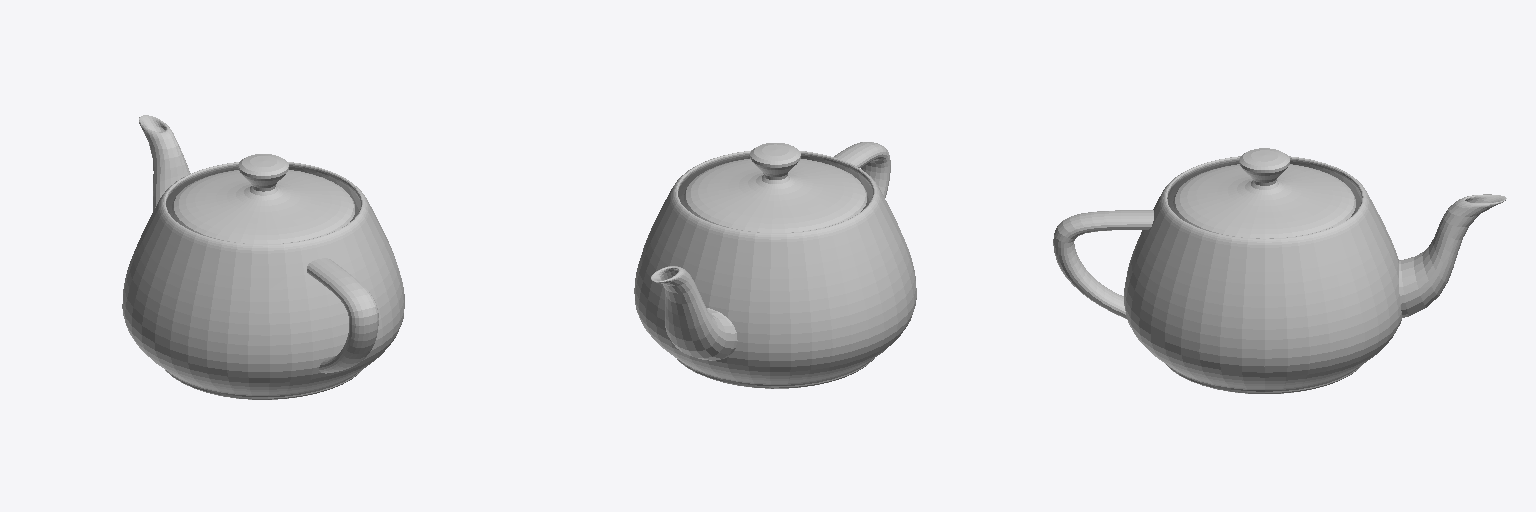
Rendered from teapot_clr.obj.
The picture shows the model from 3 angles: view 1: azimuth 30°, elevation 25°; view 2: azimuth 150°, elevation 25°; view 3: azimuth 270°, elevation 25°; orthographic projection.
Parts seen in each view (by area): view 1: utah-teapot; view 2: utah-teapot; view 3: utah-teapot.
Boxes of the visible parts, box(x1,y1,x2,y2) form: utah-teapot: box(122, 115, 404, 399); utah-teapot: box(634, 142, 916, 388); utah-teapot: box(1053, 148, 1506, 393).
Bounding box in the file's own units: 4 × 3.15 × 6.43.